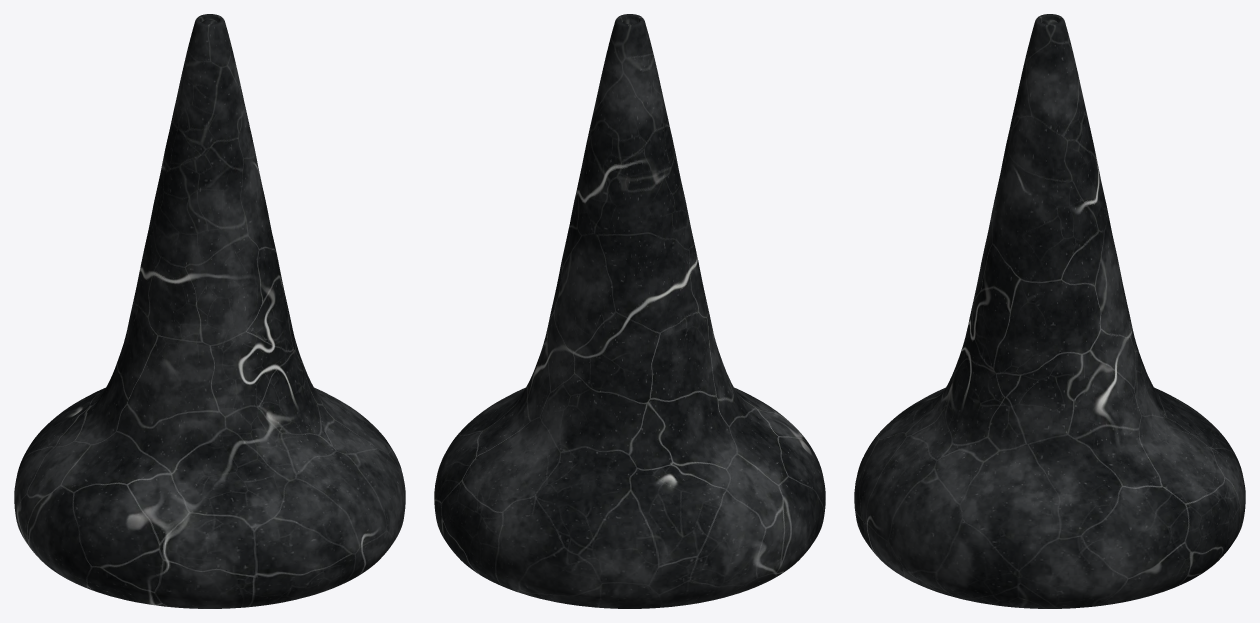
Rendered from pawn-black-hd.glb.
3 renders of one model, left to right at view 1: azimuth 30°, elevation 25°; view 2: azimuth 150°, elevation 25°; view 3: azimuth 270°, elevation 25°, orthographic.
Parts seen in each view (by area): view 1: Serpentina_pawn_black; view 2: Serpentina_pawn_black; view 3: Serpentina_pawn_black.
Boxes of the visible parts, x1,y1,x2,y2 form: Serpentina_pawn_black: (14,14,405,608); Serpentina_pawn_black: (434,14,825,608); Serpentina_pawn_black: (854,14,1245,608).
Bounding box in the file's own units: 0.6553 × 0.95 × 0.6554.
1 material, 1 textured.
